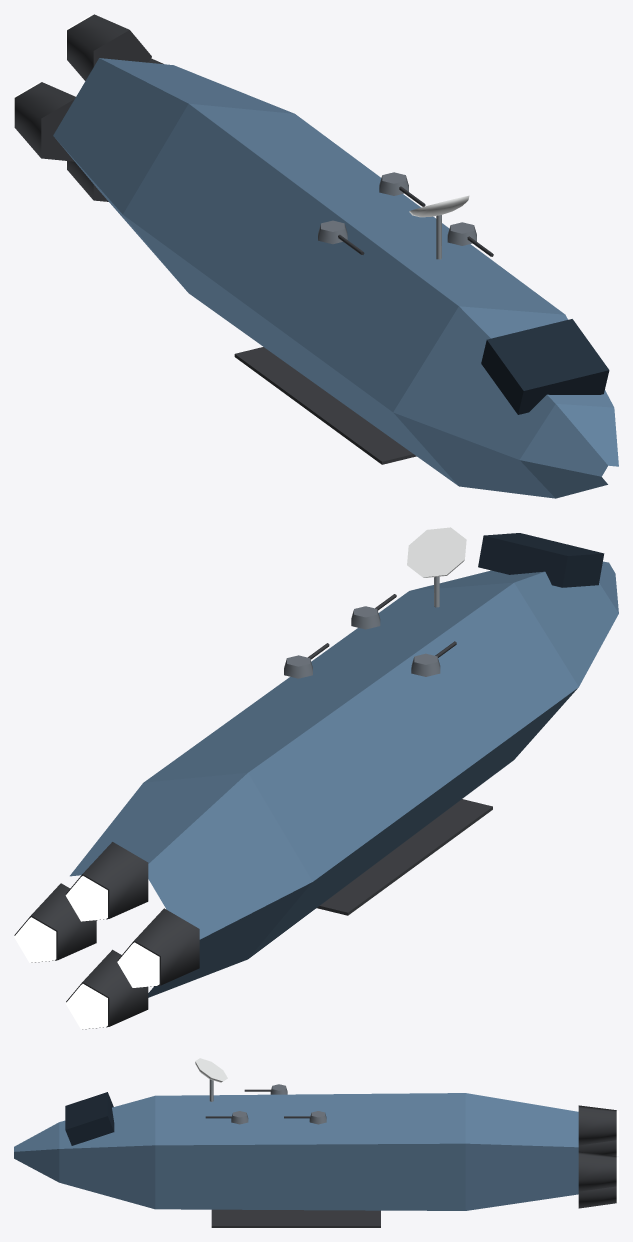
File: space_ship_transport_mk6_lod1.glb
3 views of the same model, one above another, from view 1: azimuth 30°, elevation 25°; view 2: azimuth 150°, elevation 25°; view 3: azimuth 270°, elevation 25° (orthographic). The views are drawn at different scales.
Parts seen in each view (by area): view 1: body, hangar_door, engine_2, engine_1, antenna_0, turret_2, turret_0, turret_1; view 2: body, hangar_door, engine_1, engine_2, engine_3, engine_0, antenna_0, turret_1, turret_0, turret_2; view 3: body, hangar_door, engine_1, engine_0, engine_3, antenna_0, engine_2, turret_0, turret_2.
Boxes of the visible parts, left/top/right/bottom form: body: left=53, top=58, right=618, bottom=498; hangar_door: left=234, top=347, right=416, bottom=464; engine_2: left=14, top=82, right=75, bottom=161; engine_1: left=66, top=14, right=151, bottom=80; antenna_0: left=409, top=195, right=469, bottom=259; turret_2: left=379, top=172, right=425, bottom=206; turret_0: left=447, top=222, right=493, bottom=256; turret_1: left=318, top=220, right=364, bottom=254; body: left=70, top=533, right=618, bottom=997; hangar_door: left=317, top=799, right=492, bottom=915; engine_1: left=65, top=842, right=148, bottom=921; engine_2: left=117, top=908, right=199, bottom=987; engine_3: left=65, top=949, right=148, bottom=1029; engine_0: left=14, top=883, right=96, bottom=962; antenna_0: left=407, top=527, right=466, bottom=607; turret_1: left=411, top=641, right=456, bottom=676; turret_0: left=351, top=594, right=396, bottom=629; turret_2: left=284, top=643, right=329, bottom=678; body: left=14, top=1092, right=578, bottom=1210; hangar_door: left=211, top=1209, right=380, bottom=1227; engine_1: left=578, top=1105, right=618, bottom=1145; engine_0: left=578, top=1151, right=618, bottom=1191; engine_3: left=578, top=1185, right=618, bottom=1208; antenna_0: left=195, top=1058, right=227, bottom=1101; engine_2: left=578, top=1139, right=618, bottom=1156; turret_0: left=205, top=1111, right=248, bottom=1124; turret_2: left=284, top=1111, right=326, bottom=1124.
Bounding box in the file's own units: 6.09 × 8.48 × 30.85.
